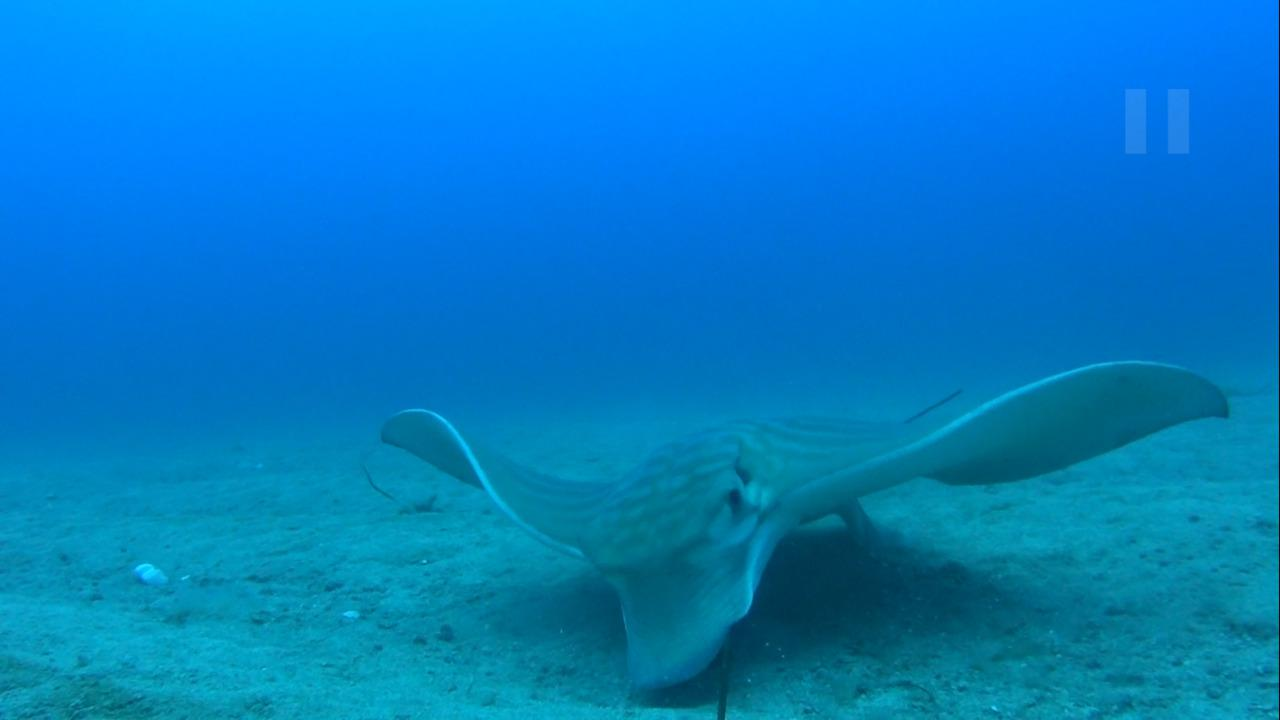myliobatis: (370, 351, 1233, 694)
